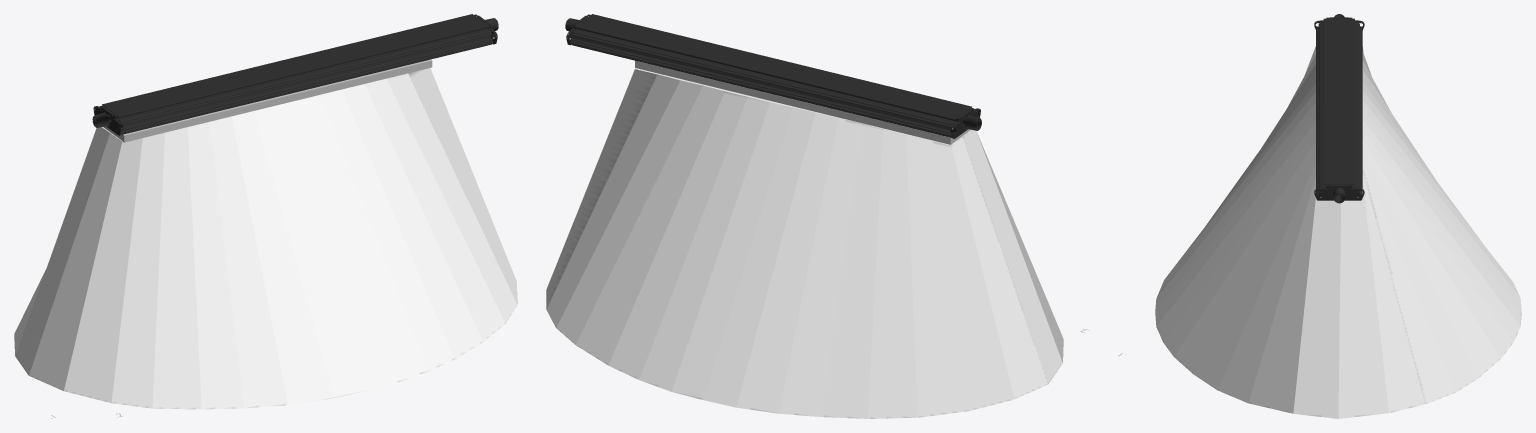
File: dlla_with_cube.obj
The picture shows the model from 3 angles, left to right: view 1: azimuth 30°, elevation 25°; view 2: azimuth 150°, elevation 25°; view 3: azimuth 270°, elevation 25°; orthographic projection. The views are drawn at different scales.
Visible parts, largest first — view 1: Cylinder, DLL4_UNV1S903D, Cube.002_Cube.003; view 2: Cylinder, DLL4_UNV1S903D, Cube.002_Cube.003; view 3: Cylinder, DLL4_UNV1S903D.
Boxes of the visible parts, x1,y1,x2,y2 form: Cylinder: (14, 68, 517, 409); DLL4_UNV1S903D: (92, 14, 498, 135); Cube.002_Cube.003: (103, 59, 432, 142); Cylinder: (546, 68, 1063, 418); DLL4_UNV1S903D: (565, 14, 981, 138); Cube.002_Cube.003: (635, 60, 970, 144); Cylinder: (1155, 46, 1521, 418); DLL4_UNV1S903D: (1314, 14, 1364, 203).
Bounding box in the file's own units: 65.59 × 30.64 × 45.24.
Materials: 3 (2 with a texture image).
